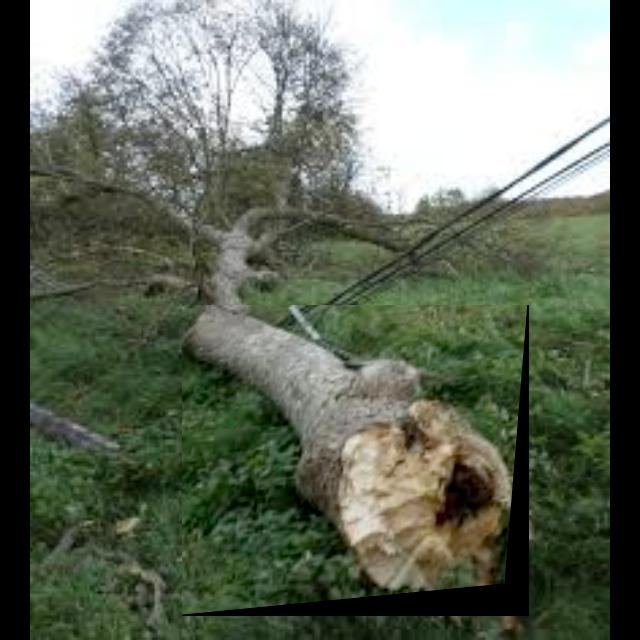Fallen Tree: (182, 305, 530, 617)
